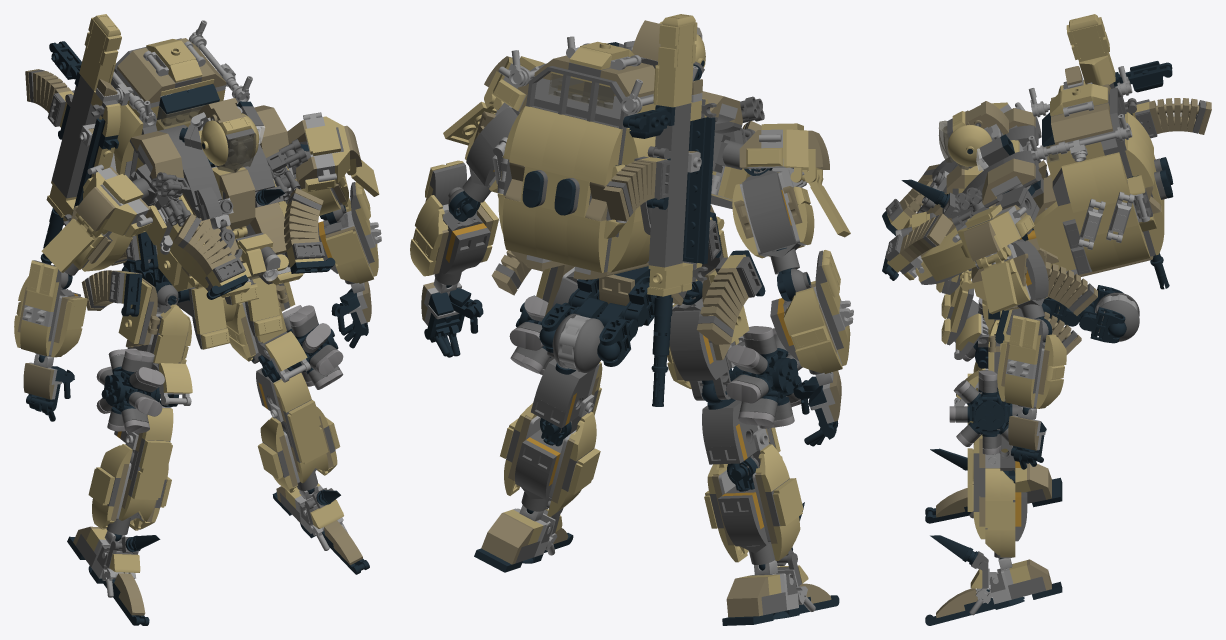
The model's file is exo-01-toad.dae.
The picture shows the model from 3 angles, left to right: view 1: azimuth 30°, elevation 25°; view 2: azimuth 150°, elevation 25°; view 3: azimuth 270°, elevation 25°; orthographic projection. The views are drawn at different scales.
Bounding box in the file's own units: 541 × 442 × 778.
